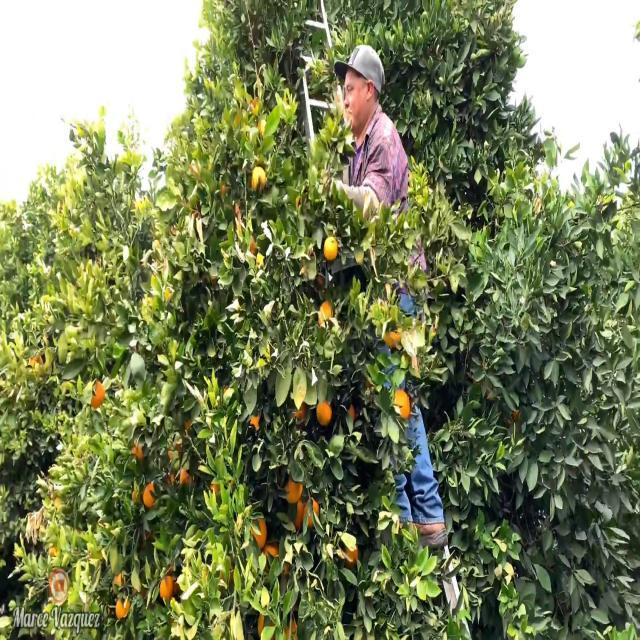Jeruk Sudah Matang: (392, 386, 412, 426), (285, 470, 305, 504), (317, 396, 336, 431), (250, 168, 270, 200), (322, 230, 341, 263)
